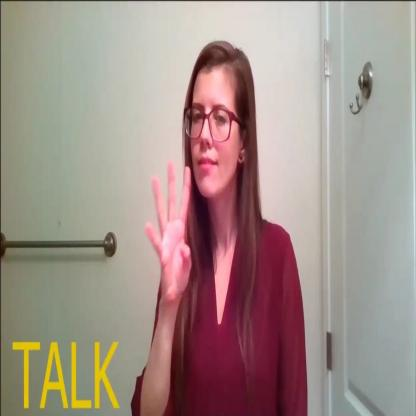Talk: (144, 38, 256, 314)
